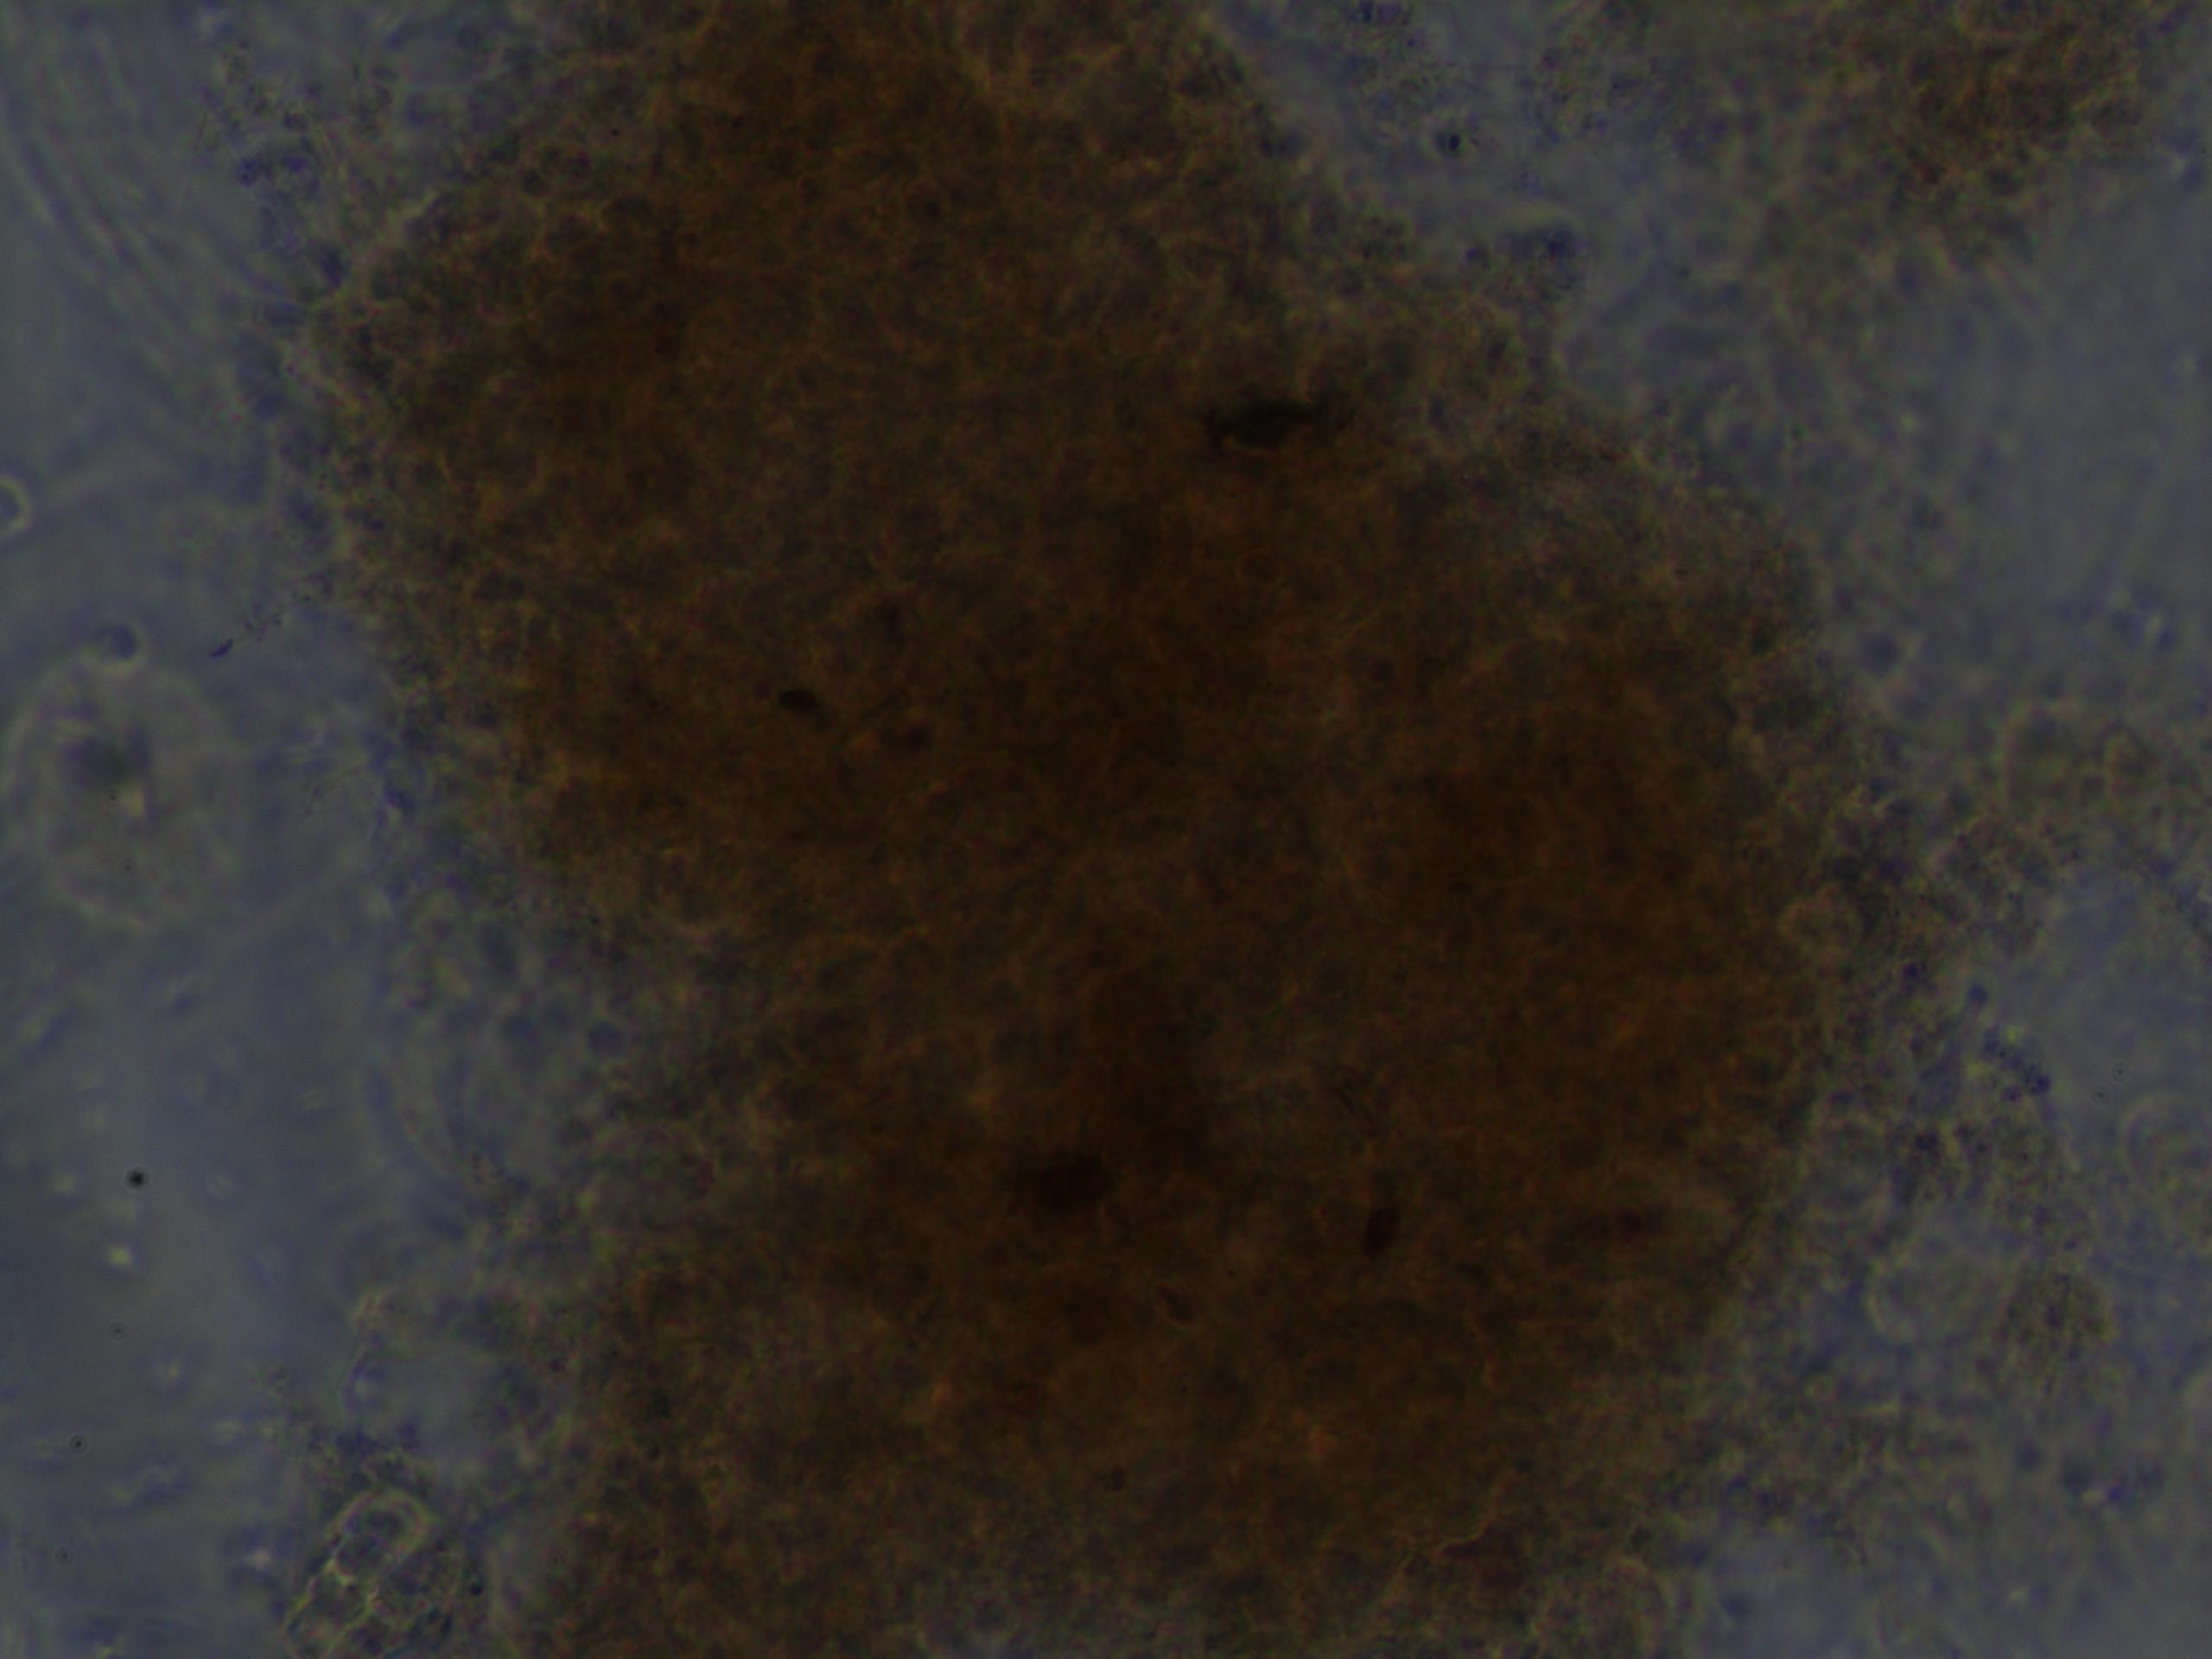spherical_floc: (277, 3, 1928, 1659)
